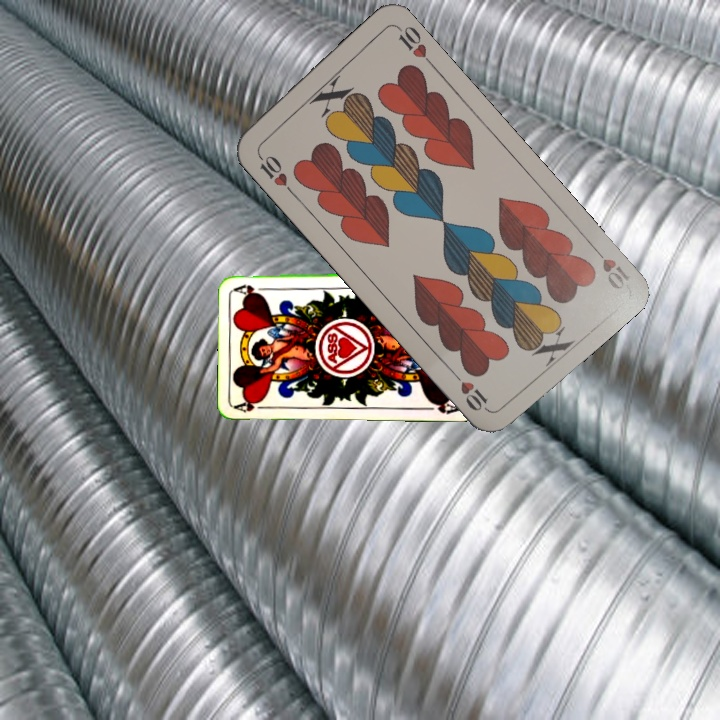H10: (587, 240, 633, 292), (253, 148, 296, 197)
HA: (232, 396, 273, 415)
